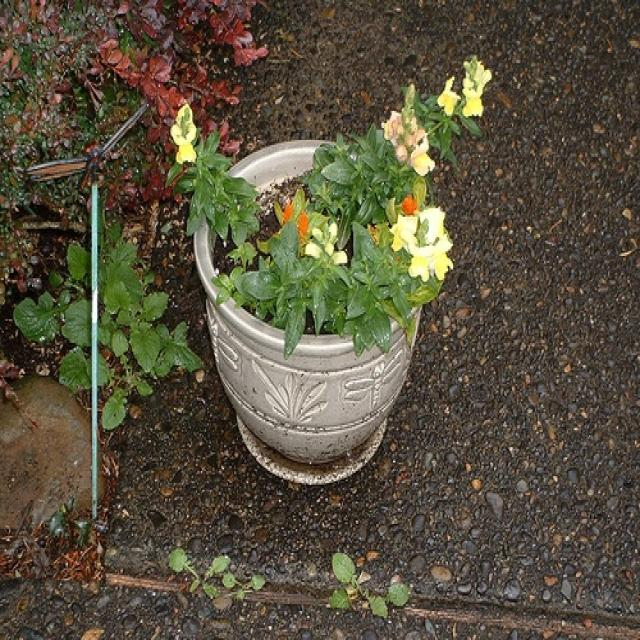pottedplant: (170, 53, 496, 485)
